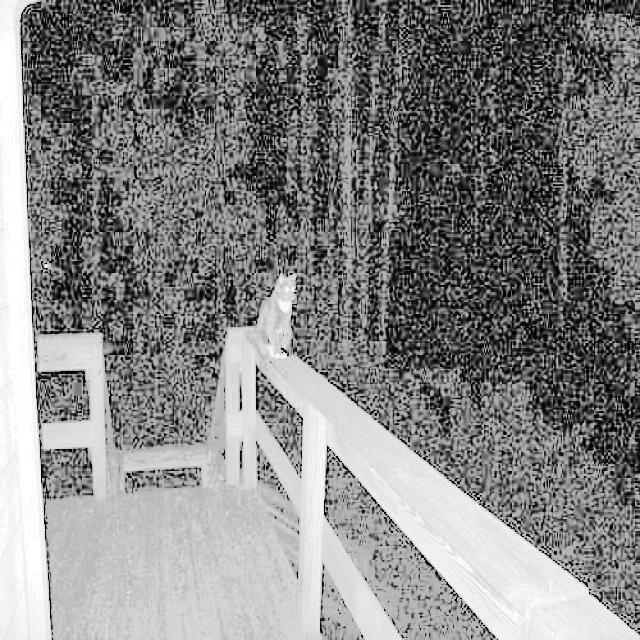Cat: (259, 250, 304, 361)
